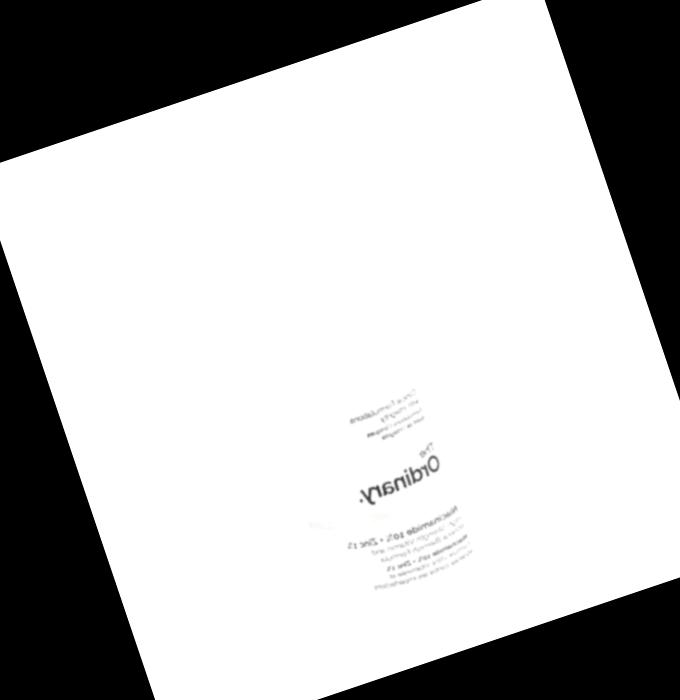cosmetic: (177, 100, 507, 654)
